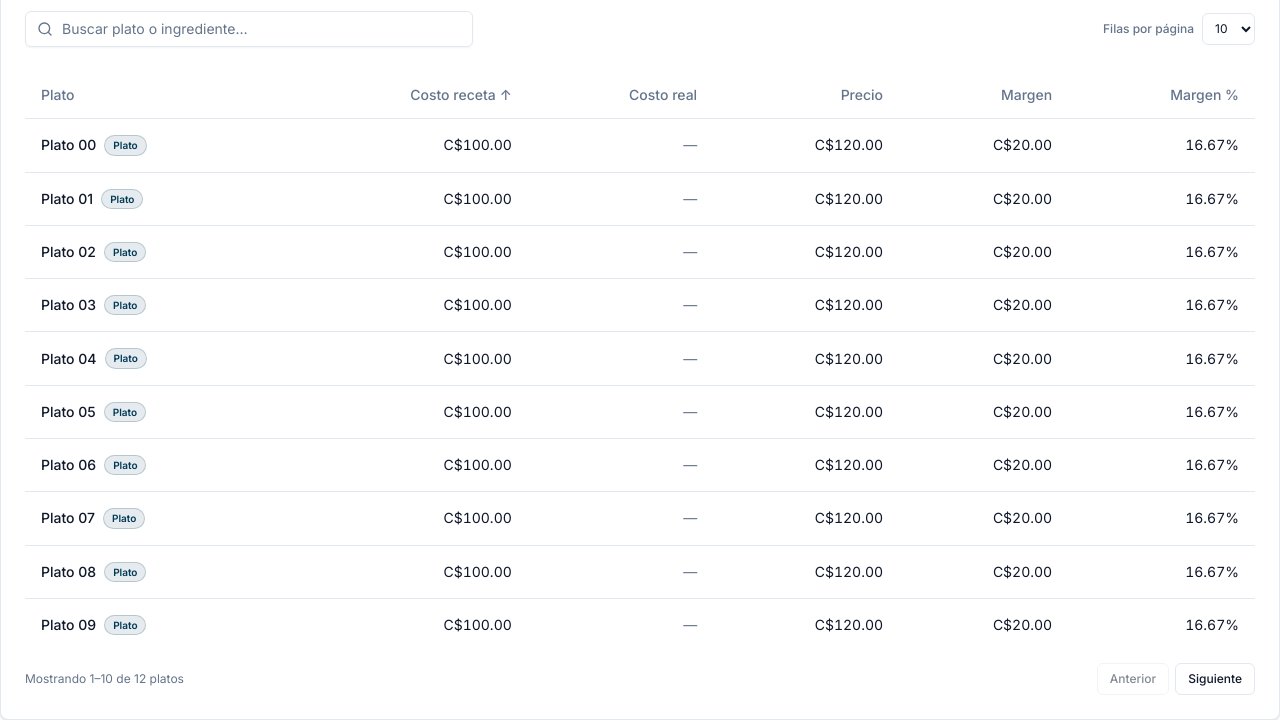
Scenario: DishMarginsPage (R8) › pages a long list and shows the range
(page scrolled)
Expected: the text "Plato 00" is shown, [41,135,96,155]
Expected: the text "Mostrando 1–10 de 12 platos" is shown, [25,671,184,687]
Step 1. Click the button "Siguiente" → point(1215, 679), box [1175,663,1255,695]
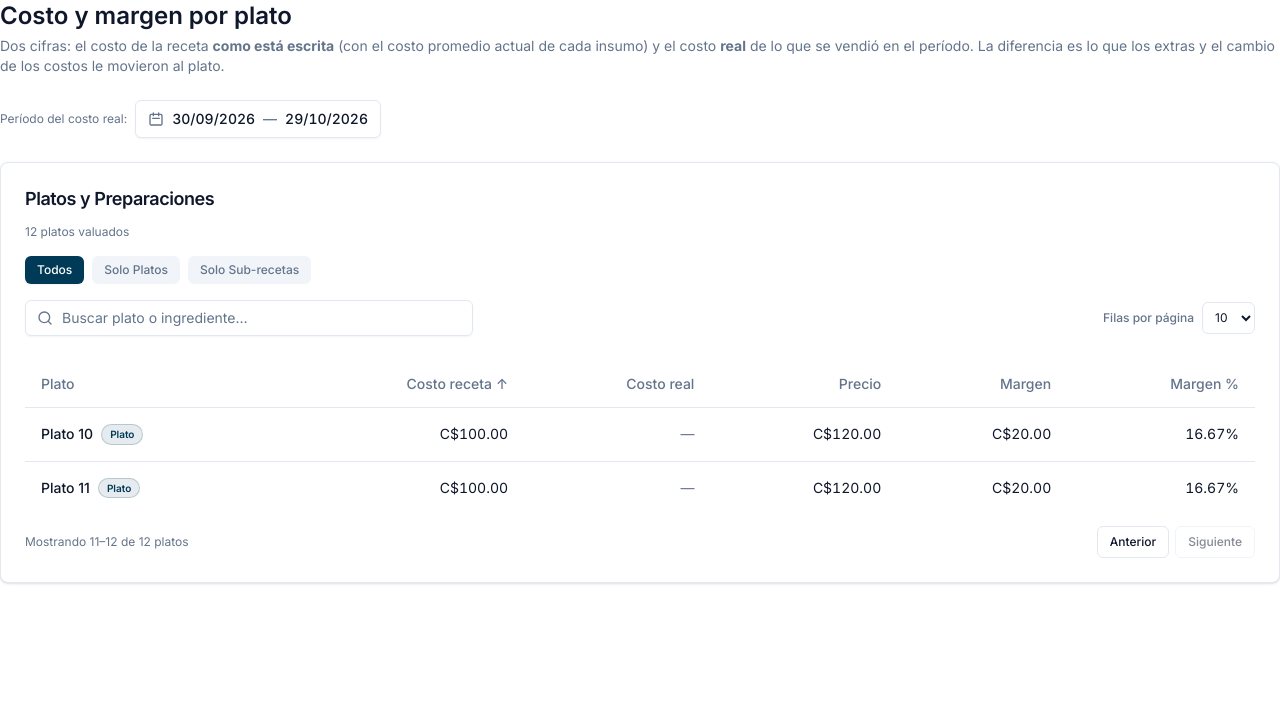
Result: the text "Plato 11" is shown at [41,478,90,498]
Result: the text "Mostrando 11–12 de 12 platos" is shown at [25,534,188,550]
